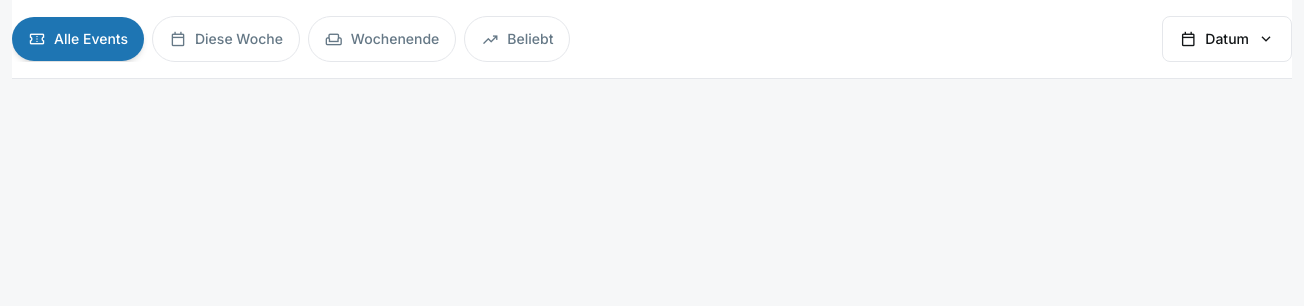
Scenario: FilterBar Component › opens sort dropdown on click
Click the button "Datum": (1227, 39) [1162,16,1292,62]
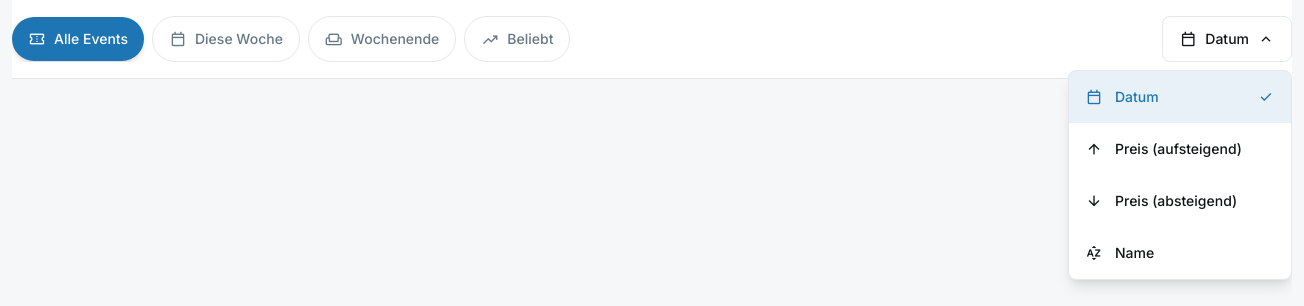
Check: the text "Preis (aufsteigend)" is shown, box [1115,139,1242,159]
Check: the text "Preis (absteigend)" is shown, box [1115,191,1237,211]
Check: the text "Name" is shown, box [1115,243,1154,263]
